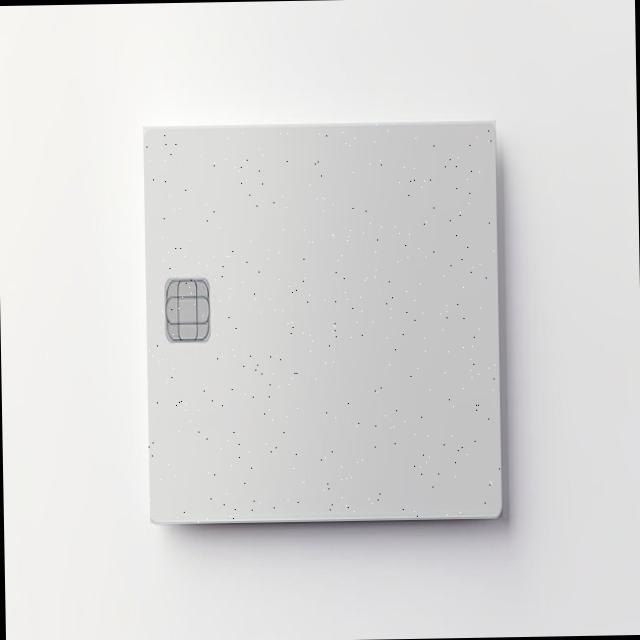payment_card: (142, 120, 503, 525)
